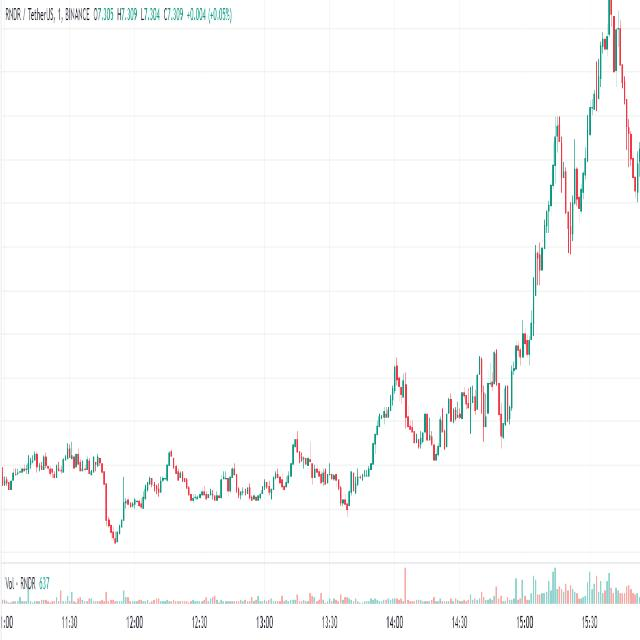Double-Bottom: (559, 159, 591, 252)
